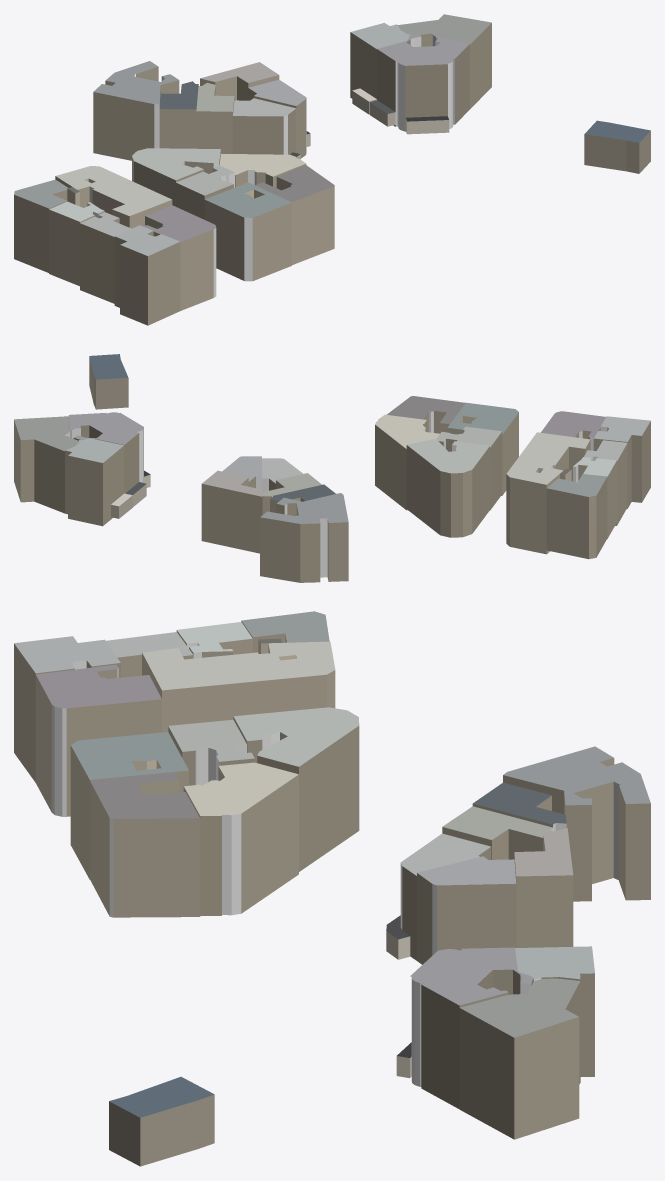
3 views of the same model, one above another, from view 1: azimuth 30°, elevation 25°; view 2: azimuth 150°, elevation 25°; view 3: azimuth 270°, elevation 25° (orthographic). The views are drawn at different scales.
Visible parts, largest first — view 1: tuile; view 2: tuile; view 3: tuile.
Part boxes in pixels (left/top/right/bottom): tuile: left=14, top=14, right=650, bottom=325; tuile: left=14, top=354, right=650, bottom=582; tuile: left=14, top=611, right=650, bottom=1166.
Bounding box in the file's own units: 239 × 29.25 × 144.
